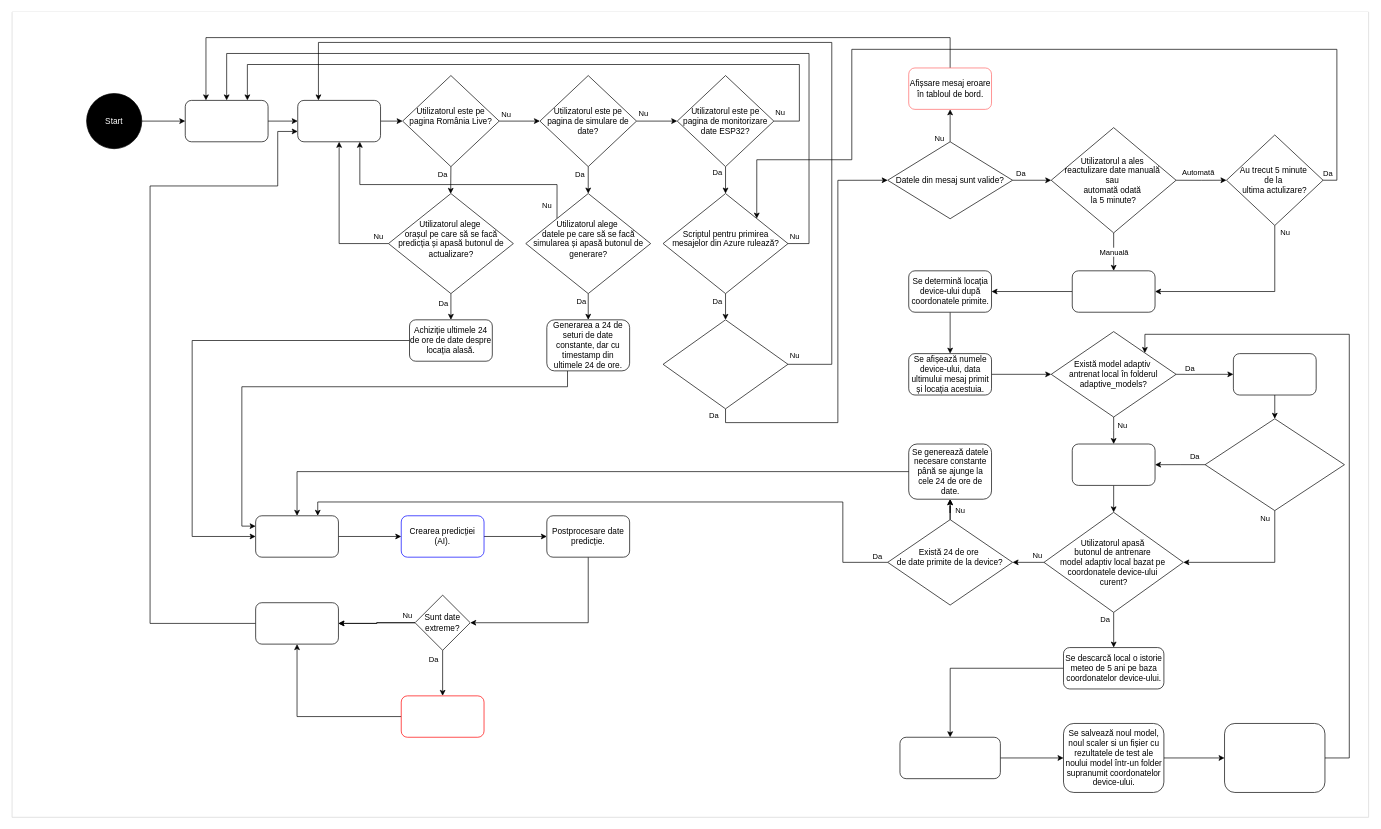
Some shapes in this 1381 by 829 pixel diagram are drawn without their labels. The centre of each missing label's shape, as x and y in pixels:
"Actualizează tabloul de bord." goes at (296,623).
"Declanșează alertă." goes at (442,716).
"Există mesaje primite în fișierul latest_telemetry.json?" goes at (725,364).
"Idle/Așteptare" goes at (339,121).
"Inițializare" goes at (226,121).
"Preprocesare date." goes at (296,536).
"Se afișează în tabloul de bord rezultatele de test ale noului model." goes at (1274,757).
"Se alege ca implicit modelul adaptiv antrenat local" goes at (1274,374).
"Se alege ca implicit modelul principal." goes at (1113,464).
"Se antrenează local un nou model adaptiv pe baza arhitecturii deja existente." goes at (949,758).
"Se clasifică datele primite în nume device, coordonate și date meteo." goes at (1113,291).
"Utilizatorul apasă butonul de dezactivare a modelului adaptiv antrenat local?" goes at (1274,464).
